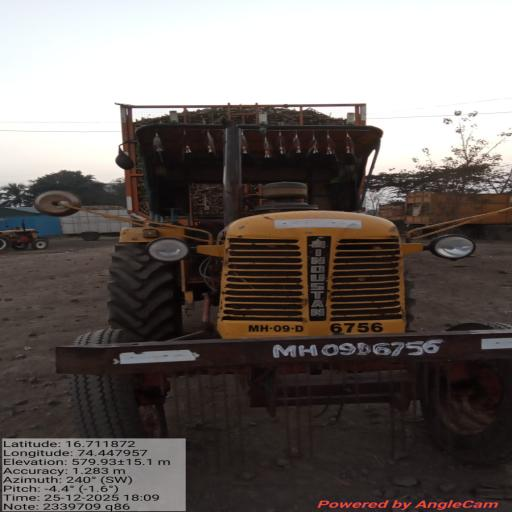number_plate: (260, 335, 448, 360)
